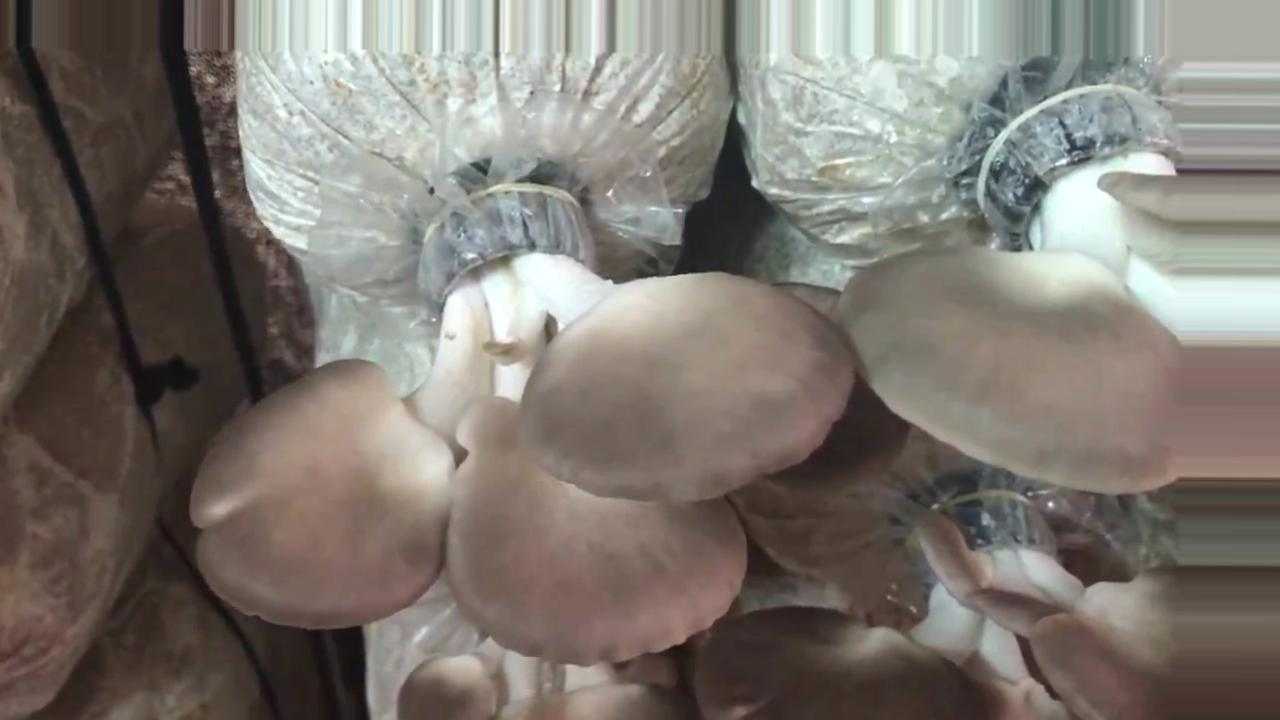nam: (192, 187, 855, 664), (843, 92, 1280, 493), (692, 502, 1280, 720), (399, 639, 684, 720)
